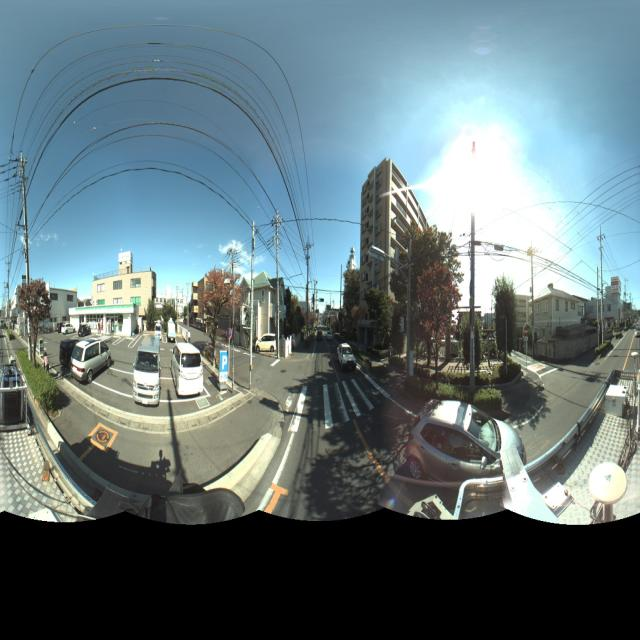b_1: (76, 261, 156, 350), (357, 161, 393, 330), (532, 279, 584, 341), (254, 266, 285, 341), (587, 280, 621, 332)
b_2: (371, 164, 465, 392), (188, 257, 266, 350), (18, 270, 82, 350)
